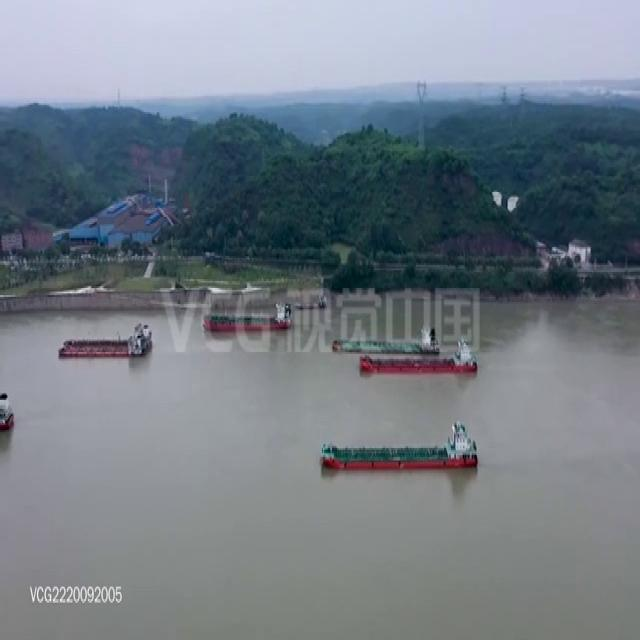cargoship: (316, 419, 478, 474), (350, 336, 481, 379), (332, 320, 439, 358), (56, 324, 154, 360), (200, 297, 294, 330), (0, 385, 17, 428), (294, 292, 329, 310)
